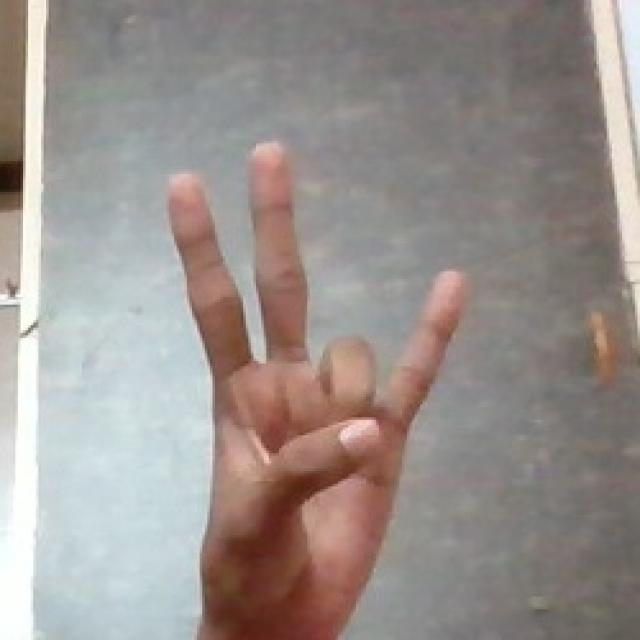Numeric-7: (154, 124, 471, 624)
